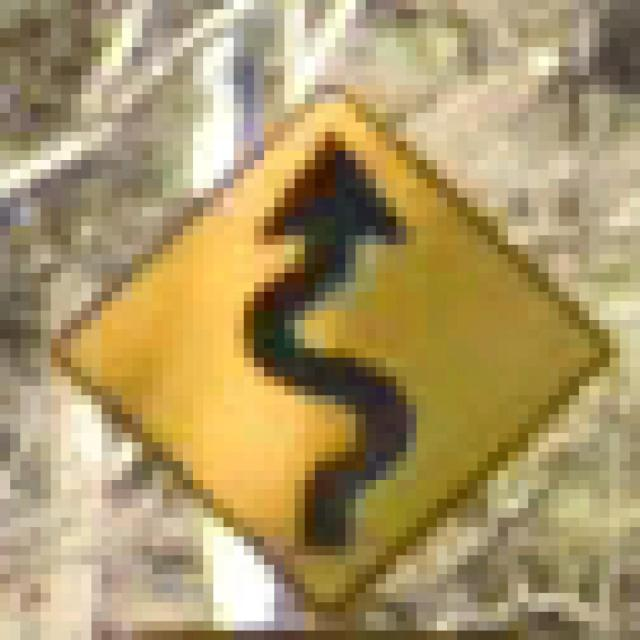Banyak Tikungan Pertama Kanan: (20, 66, 610, 631)
